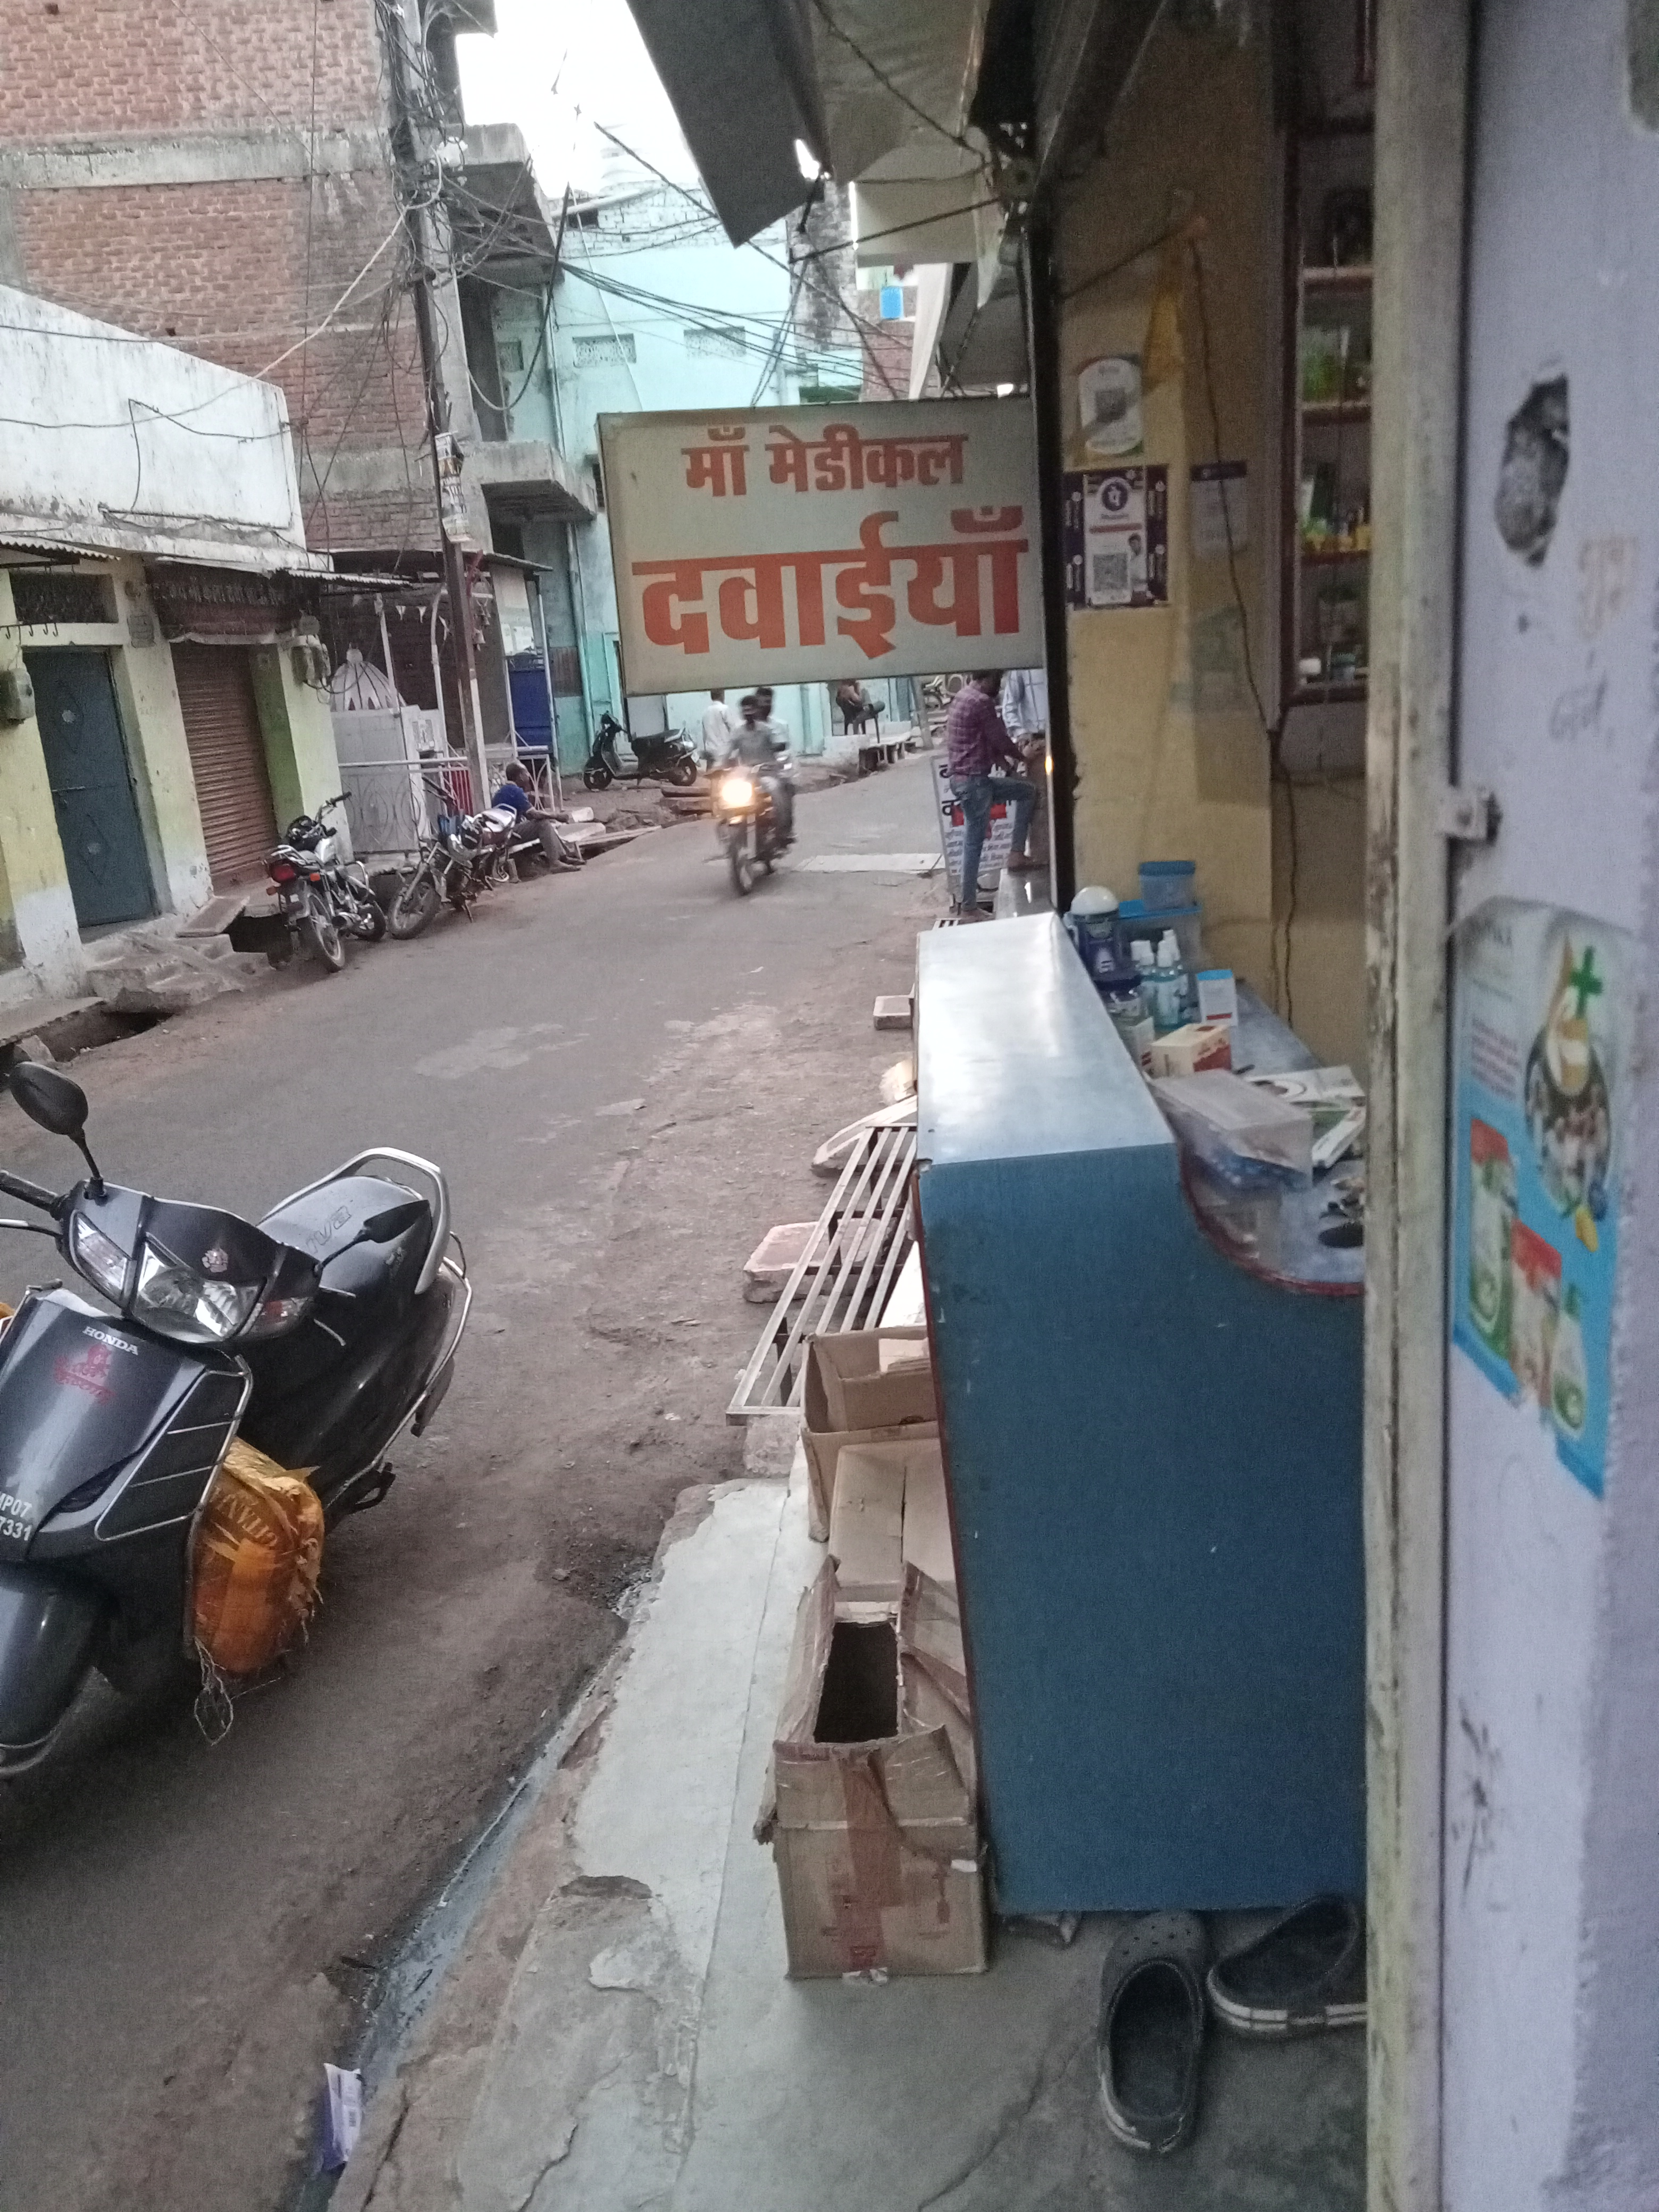text: (589, 388, 1051, 685), (150, 571, 291, 622)
